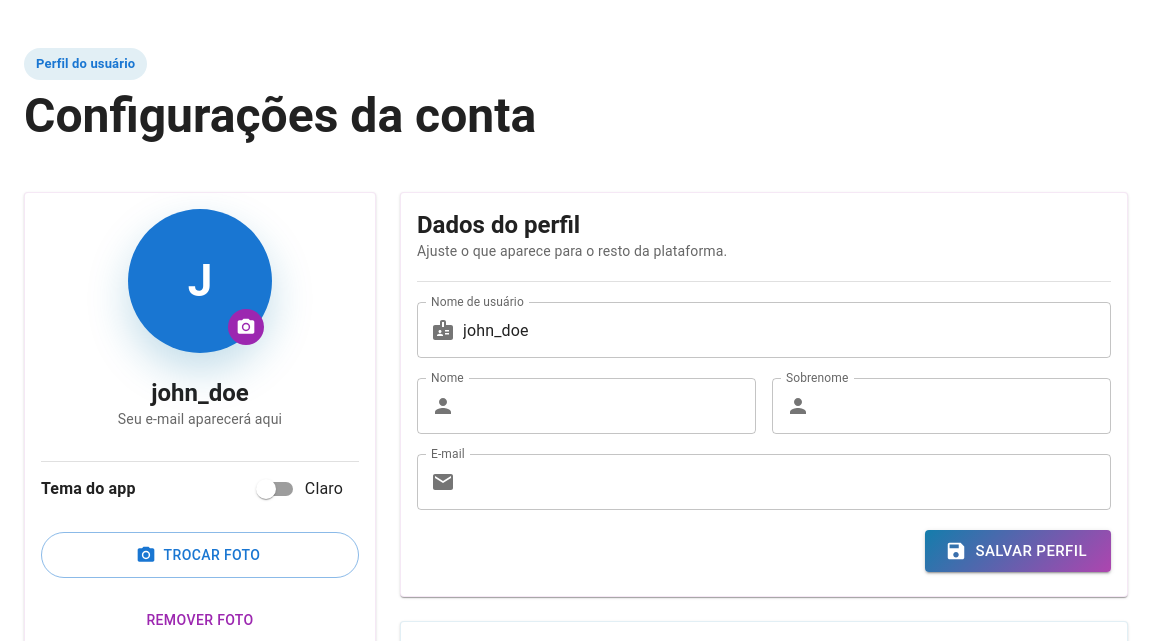
Test case: Settings Page › should display error message when profile edit api fails
The width and height of the screenshot is (1152, 641).
Type "Johnny" into the field labelled "Nome" at (610, 406), box [463,378,756,434]
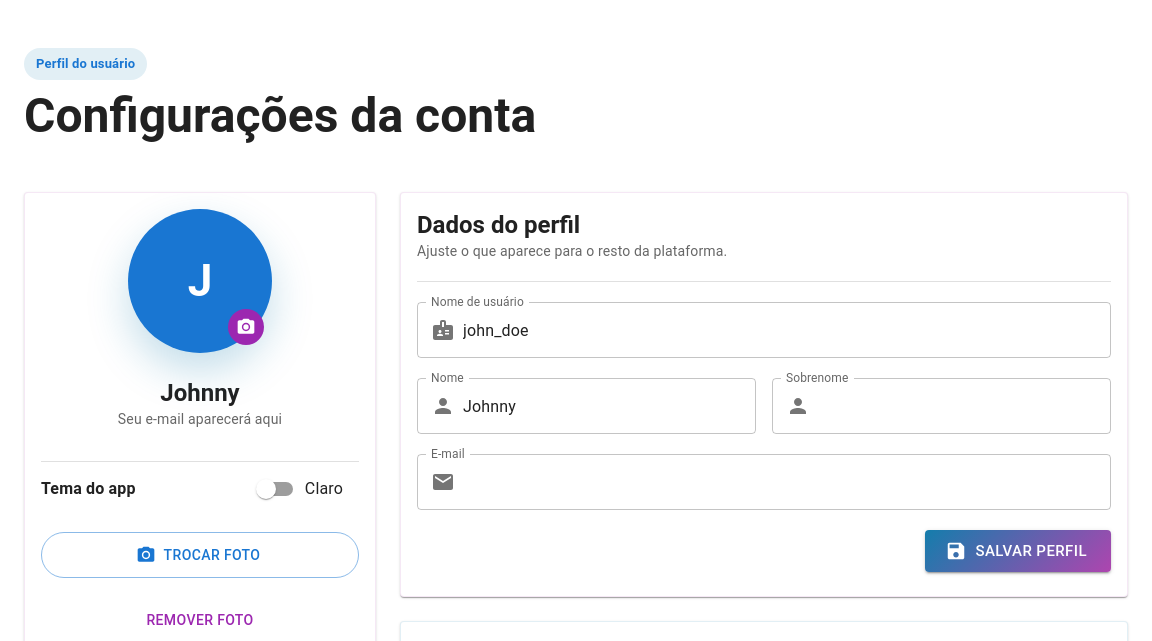
Click the button "Salvar perfil" at (1018, 551), box [926,530,1111,572]
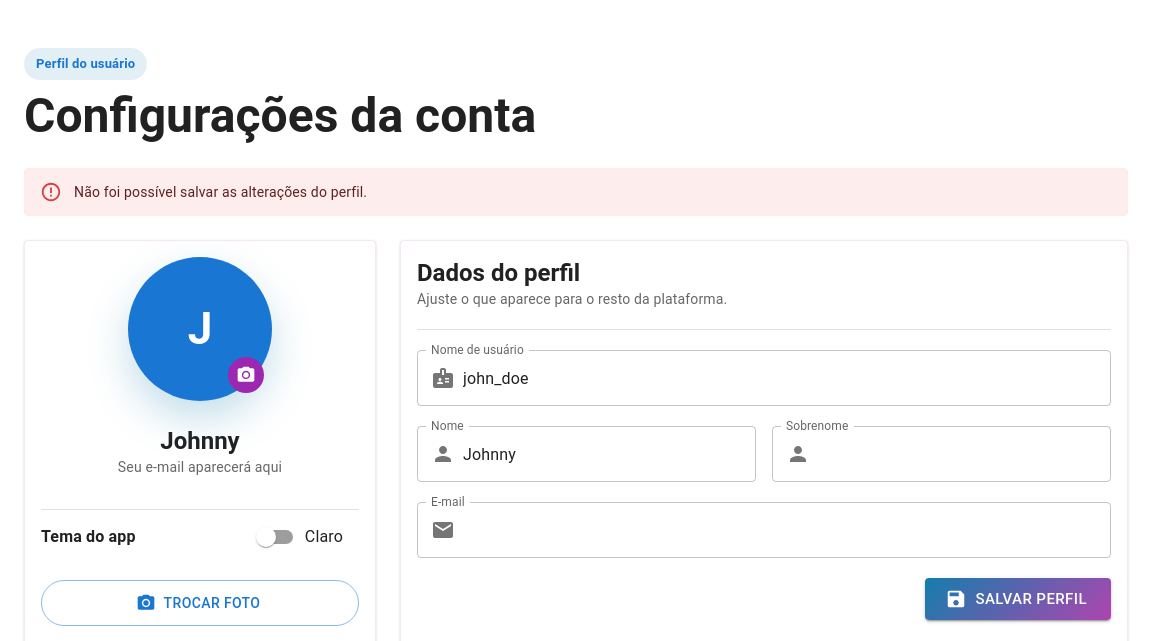
expect the text "Não foi possível salvar as alterações do perfil." is shown: met, box [74,184,367,200]
